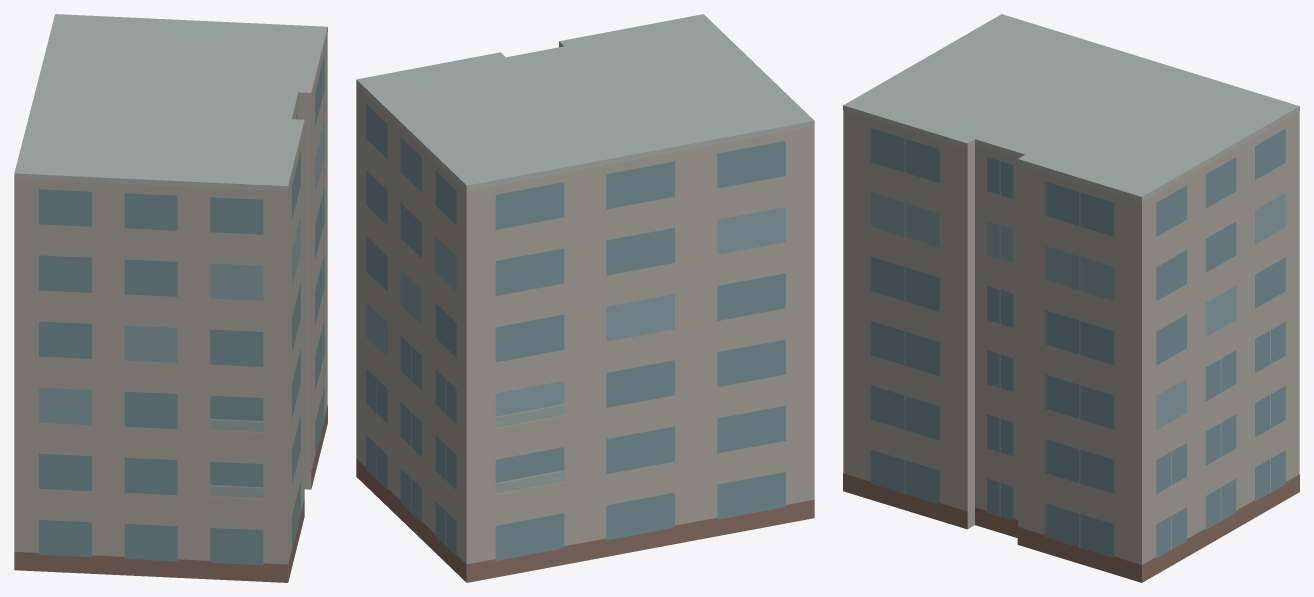
File: survey-upis-32574584.glb
3 renders of one model, left to right at view 1: azimuth 30°, elevation 25°; view 2: azimuth 150°, elevation 25°; view 3: azimuth 270°, elevation 25°, orthographic. The views are drawn at different scales.
Parts seen in each view (by area): view 1: survey-upis-32574584.tmp; view 2: survey-upis-32574584.tmp; view 3: survey-upis-32574584.tmp.
Part boxes in pixels (x1,y1,x2,y2): survey-upis-32574584.tmp: (14, 14, 327, 582); survey-upis-32574584.tmp: (356, 14, 814, 582); survey-upis-32574584.tmp: (843, 14, 1299, 582).
Bounding box in the file's own units: 18.62 × 18.3 × 19.63.
